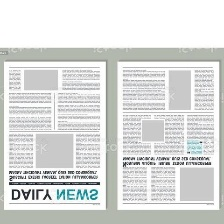news_paper: (114, 59, 221, 211), (2, 59, 107, 210)
